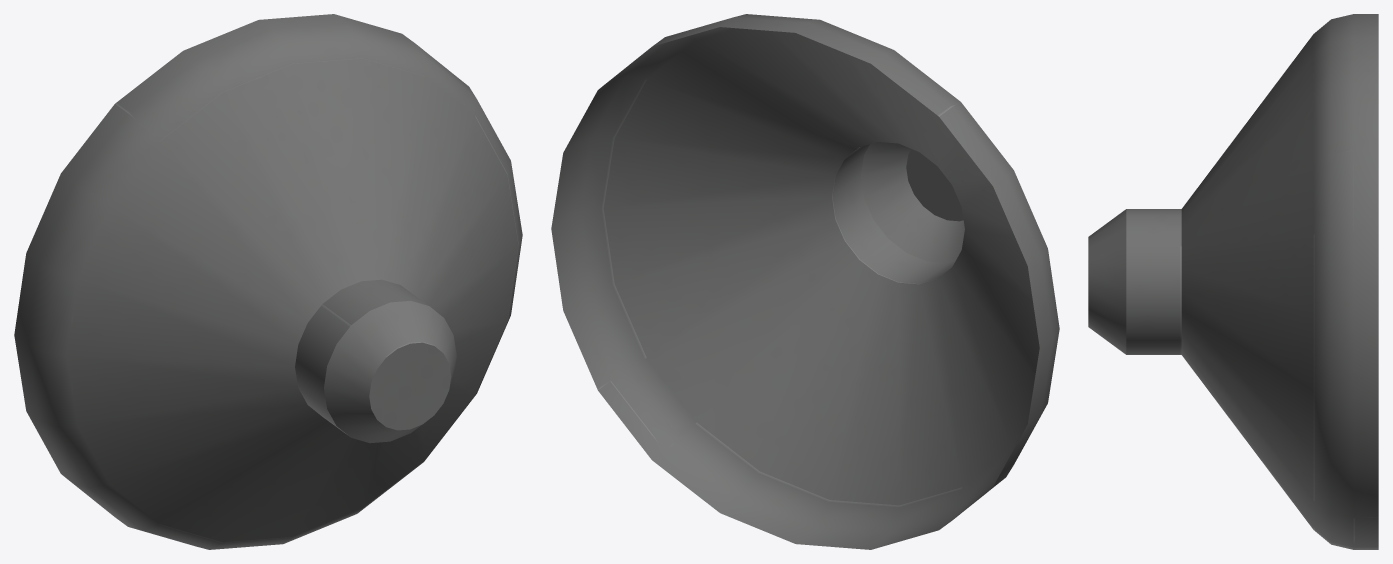
The model's file is Scanner_Base.fbx.
3 views of the same model, side by side, from view 1: azimuth 30°, elevation 25°; view 2: azimuth 150°, elevation 25°; view 3: azimuth 270°, elevation 25° (orthographic). The views are drawn at different scales.
Parts seen in each view (by area): view 1: Scanner_Base; view 2: Scanner_Base; view 3: Scanner_Base.
Boxes of the visible parts, bbox=[...] form: Scanner_Base: bbox=[14, 14, 522, 549]; Scanner_Base: bbox=[551, 14, 1059, 549]; Scanner_Base: bbox=[1088, 14, 1378, 549].
Bounding box in the file's own units: 365 × 365 × 196.
